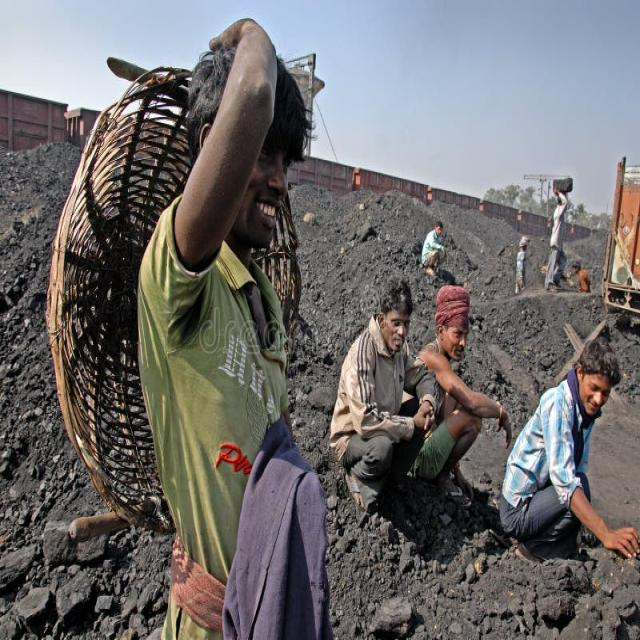person: (89, 0, 342, 640), (495, 303, 639, 581), (328, 238, 426, 519), (418, 271, 491, 515), (535, 174, 572, 300), (415, 207, 453, 274), (504, 220, 532, 299)
